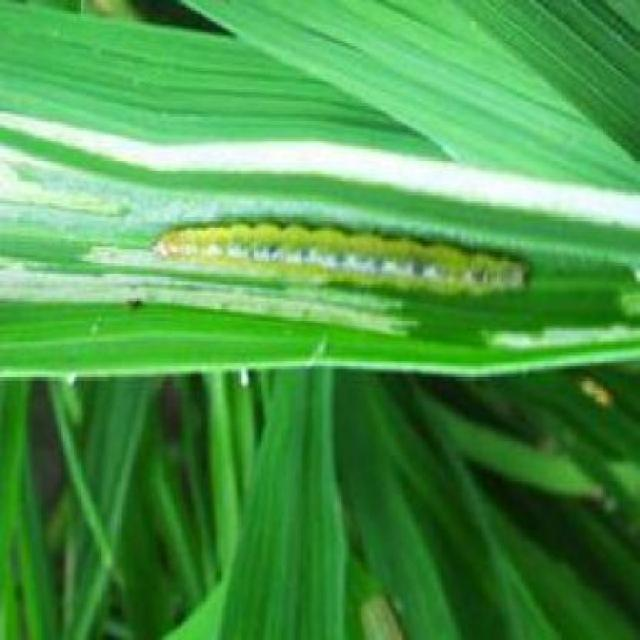leaf-folder: (148, 182, 532, 328)
